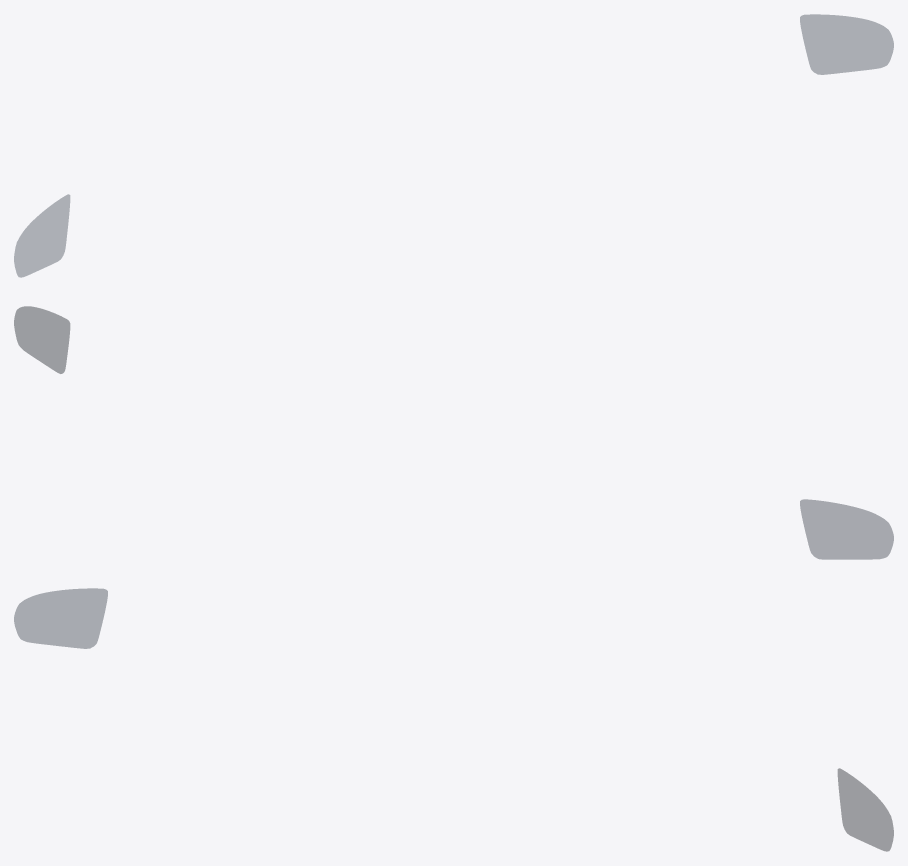
Rendered from mirror_glass.glb.
The picture shows the model from 3 angles, top to bottom: view 1: azimuth 30°, elevation 25°; view 2: azimuth 150°, elevation 25°; view 3: azimuth 330°, elevation 25°; orthographic projection.
Parts seen in each view (by area): view 1: mirror_glass; view 2: mirror_glass; view 3: mirror_glass.
Part boxes in pixels (left/top/right/bottom): mirror_glass: left=14, top=14, right=893, bottom=277; mirror_glass: left=14, top=306, right=893, bottom=559; mirror_glass: left=14, top=588, right=893, bottom=851.
Bounding box in the file's own units: 1.84 × 0.1206 × 0.0686.
